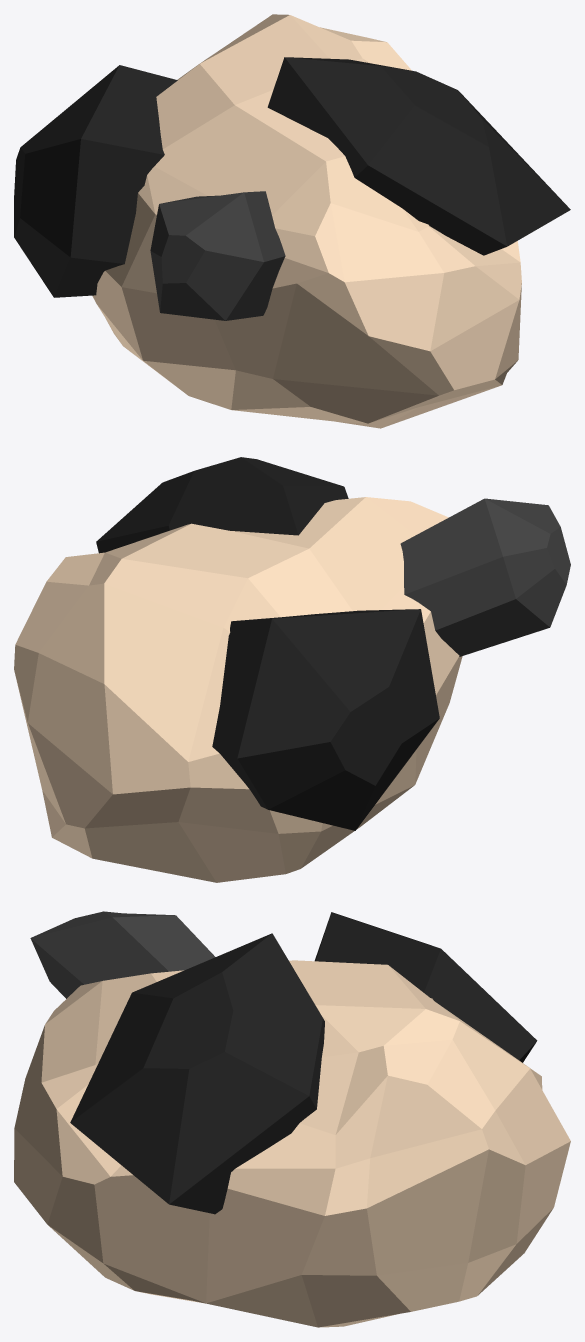
The model's file is MineralNode_04_B.fbx.
3 renders of one model, top to bottom at view 1: azimuth 30°, elevation 25°; view 2: azimuth 150°, elevation 25°; view 3: azimuth 270°, elevation 25°, orthographic. The views are drawn at different scales.
Visible parts, largest first — view 1: MineralNode_04_B; view 2: MineralNode_04_B; view 3: MineralNode_04_B.
Part boxes in pixels (left/top/right/bottom): MineralNode_04_B: left=14, top=14, right=570, bottom=428; MineralNode_04_B: left=14, top=457, right=570, bottom=882; MineralNode_04_B: left=14, top=911, right=570, bottom=1327.
Bounding box in the file's own units: 89.81 × 66.71 × 103.
